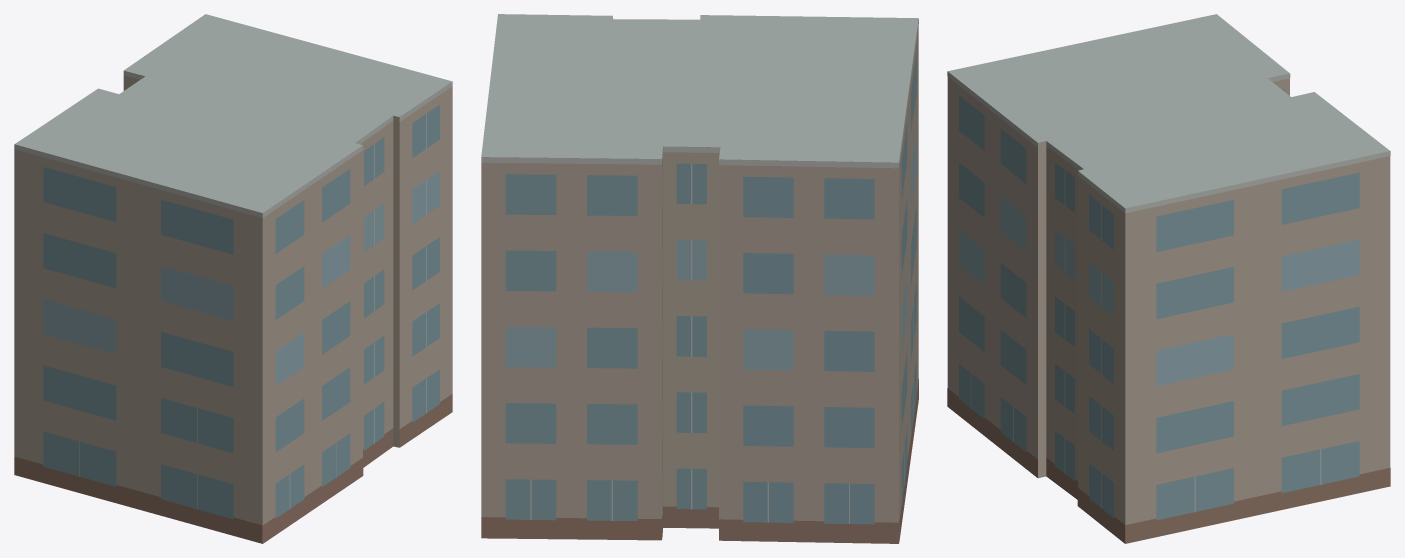
Rendered from survey-upis-32892891.glb.
3 views of the same model, side by side, from view 1: azimuth 30°, elevation 25°; view 2: azimuth 150°, elevation 25°; view 3: azimuth 270°, elevation 25° (orthographic). The views are drawn at different scales.
Parts seen in each view (by area): view 1: survey-upis-32892891.tmp; view 2: survey-upis-32892891.tmp; view 3: survey-upis-32892891.tmp.
Part boxes in pixels (left/top/right/bottom): survey-upis-32892891.tmp: left=14, top=14, right=452, bottom=543; survey-upis-32892891.tmp: left=481, top=14, right=918, bottom=543; survey-upis-32892891.tmp: left=947, top=14, right=1390, bottom=543.
Bounding box in the file's own units: 20.4 × 16.4 × 19.64.
